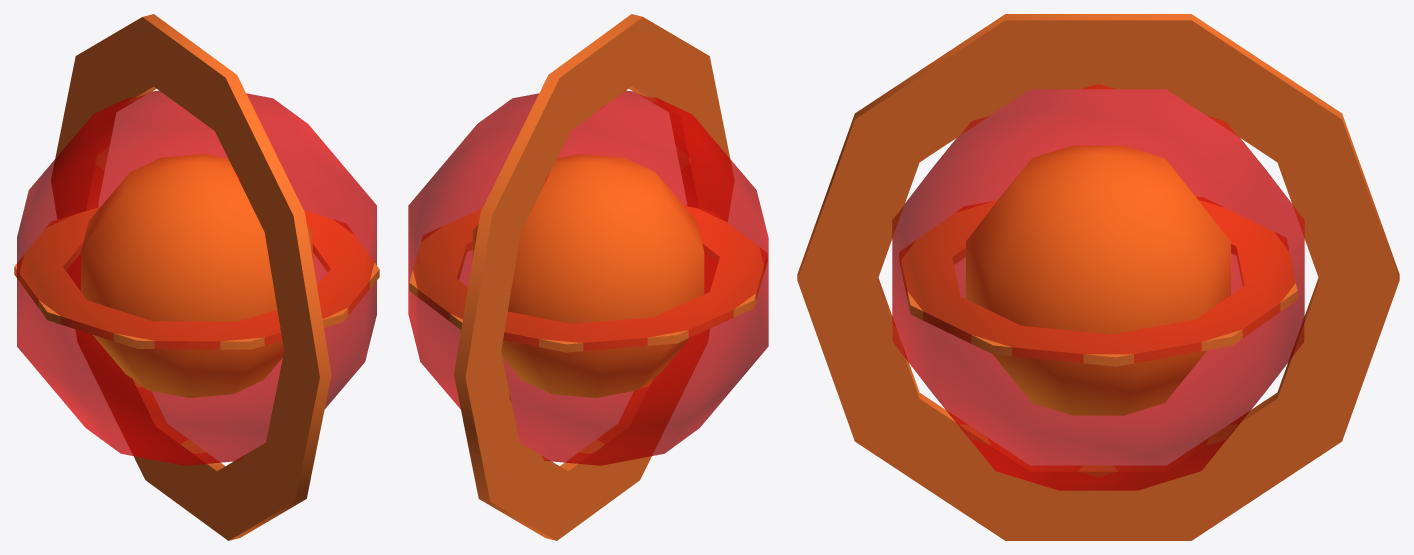
Rendered from Enemy_Attack16.obj.
The picture shows the model from 3 angles, left to right: view 1: azimuth 30°, elevation 25°; view 2: azimuth 150°, elevation 25°; view 3: azimuth 270°, elevation 25°; orthographic projection. The views are drawn at different scales.
Parts seen in each view (by area): view 1: Sphere002, Tube001, Sphere001, Tube002; view 2: Sphere002, Tube001, Sphere001, Tube002; view 3: Sphere002, Tube001, Sphere001, Tube002.
Part boxes in pixels (x1,y1,x2,y2): Sphere002: (17,90,376,465); Tube001: (51,14,331,540); Sphere001: (81,154,312,397); Tube002: (14,207,379,349); Sphere002: (408,90,768,465); Tube001: (454,14,734,540); Sphere001: (472,154,704,397); Tube002: (409,206,767,352); Sphere002: (892,84,1304,490); Tube001: (797,14,1399,540); Sphere001: (966,145,1230,415); Tube002: (899,197,1297,366).
Size of the model in its own units: 21.45 by 30.19 by 31.73.
